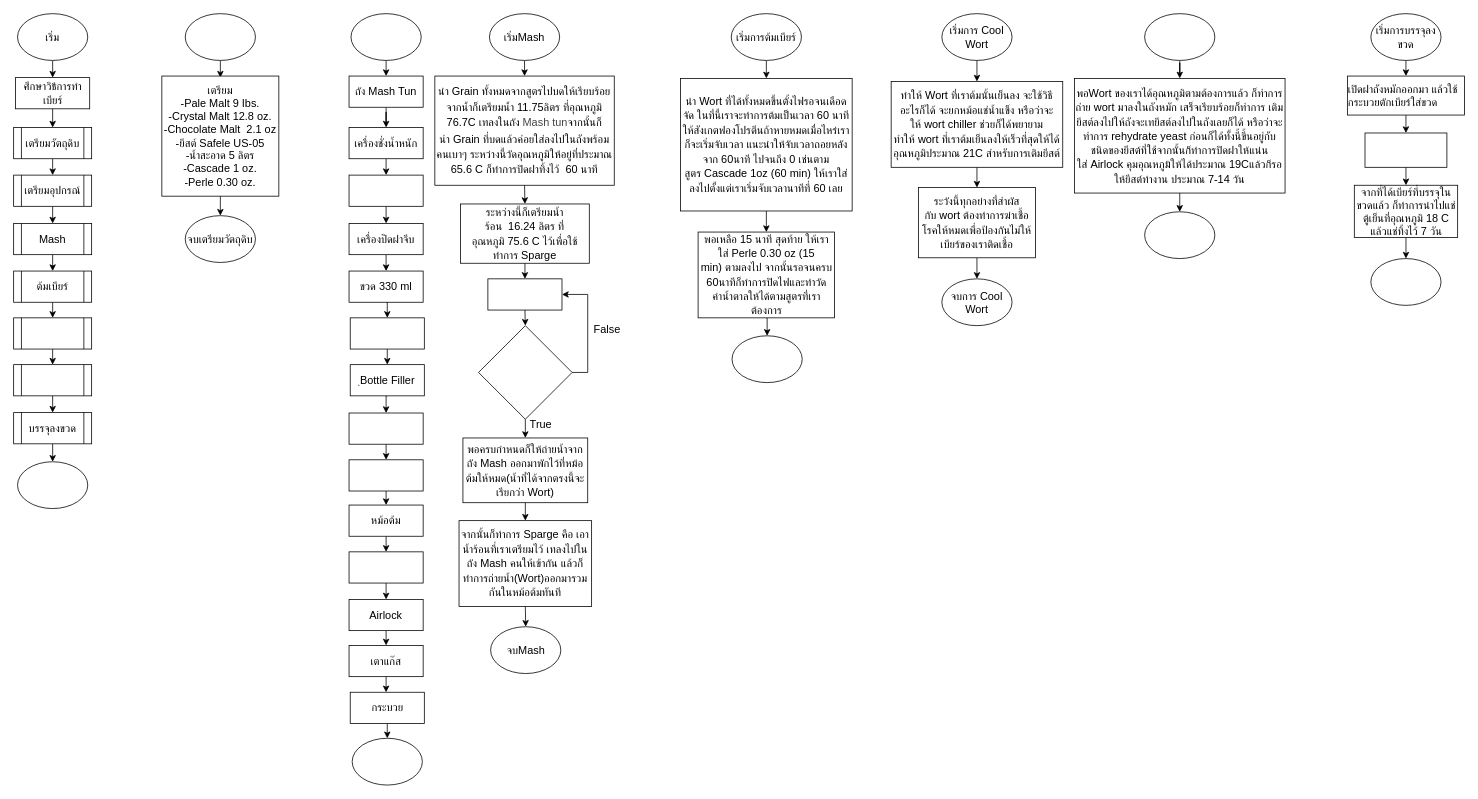
The diagram is 1478 pixels wide and 799 high, and some of its shapes have lost their labels. Here are the shapes that lost their labels. From the top down, the box of each, then its label:
(184, 13, 255, 60): เริ่มเตรียมวัตถุดิบ
(350, 13, 421, 60): เริ่มเตรียมอุปกรณ์
(1144, 13, 1215, 60): เริ่มการถ่ายเบียร์ลงถังหมัก
(1364, 132, 1447, 167): เมื่อใส่ขวดจนครบแล้วปิดฝาจีบ
(348, 174, 423, 206): Auto Siphon
(1144, 211, 1215, 259): จบการถ่ายเบียร์ลงถังหมัก
(487, 278, 562, 310): รอเวลา 60 นาที
(1370, 258, 1441, 305): จบการบรรจุลงขวด
(13, 317, 92, 349): Cool wort
(349, 317, 424, 349): ฝาจีบ
(478, 325, 572, 419): ครบ 60 นาทีแล้วหรือไม่
(731, 335, 802, 383): จบการต้มเบียร์
(13, 364, 92, 396): ถ่าย Wort ลงถังหมัก
(348, 412, 423, 444): ที่เปิดฝาถัง
(17, 461, 88, 509): จบ
(348, 459, 423, 491): ถังหมัก
(348, 551, 423, 583): เครื่องบดธัญพืช
(351, 737, 422, 785): จบเตรียมอุปกรณ์
